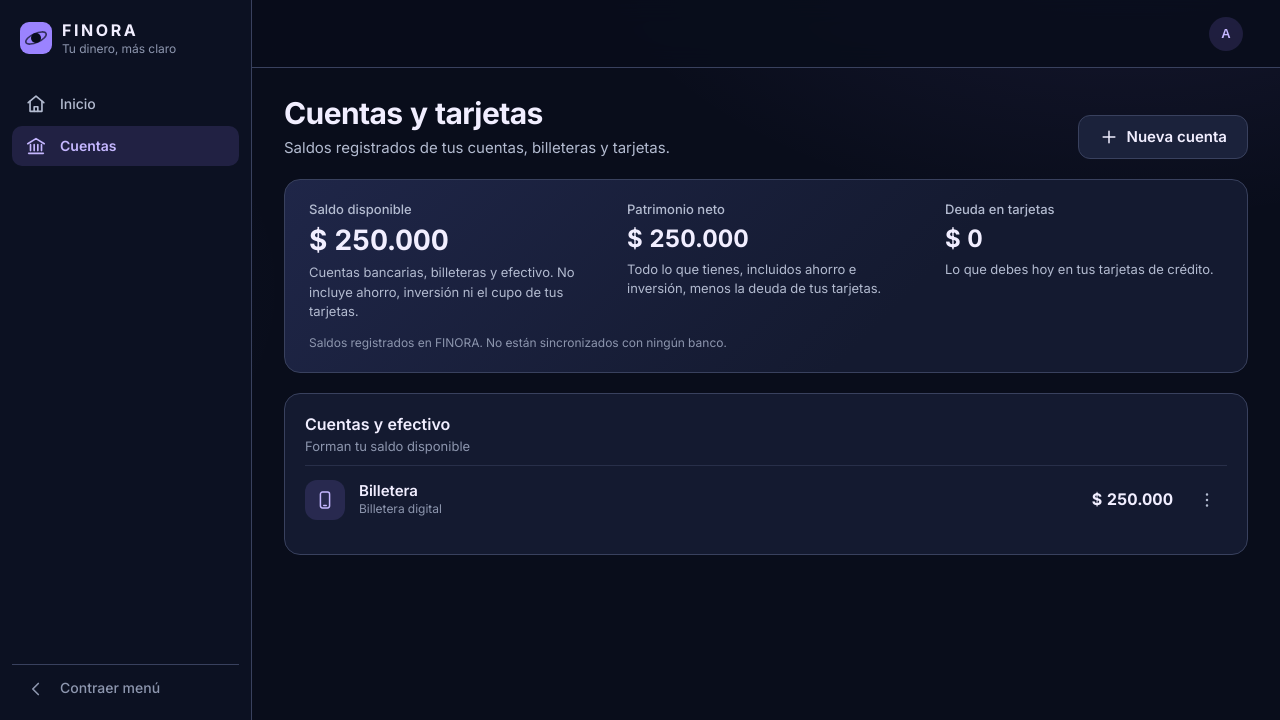
eliminar (CA-ACC-05) › VAL-ACC-08: con movimientos, ofrece archivarla
Click the button named "Acciones de Billetera". click: (1207, 500)
box: 1187,480 -> 1227,520
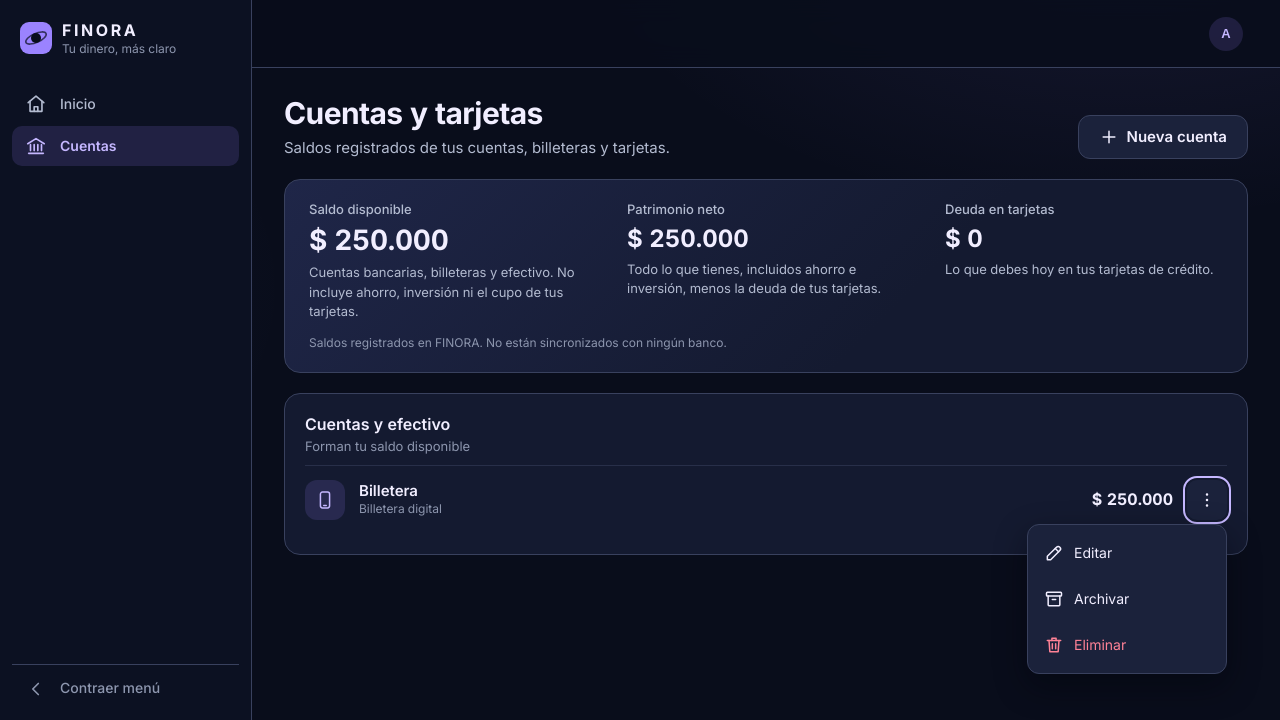
Click the button "Eliminar". click: (1127, 645)
box: 1034,623 -> 1220,667
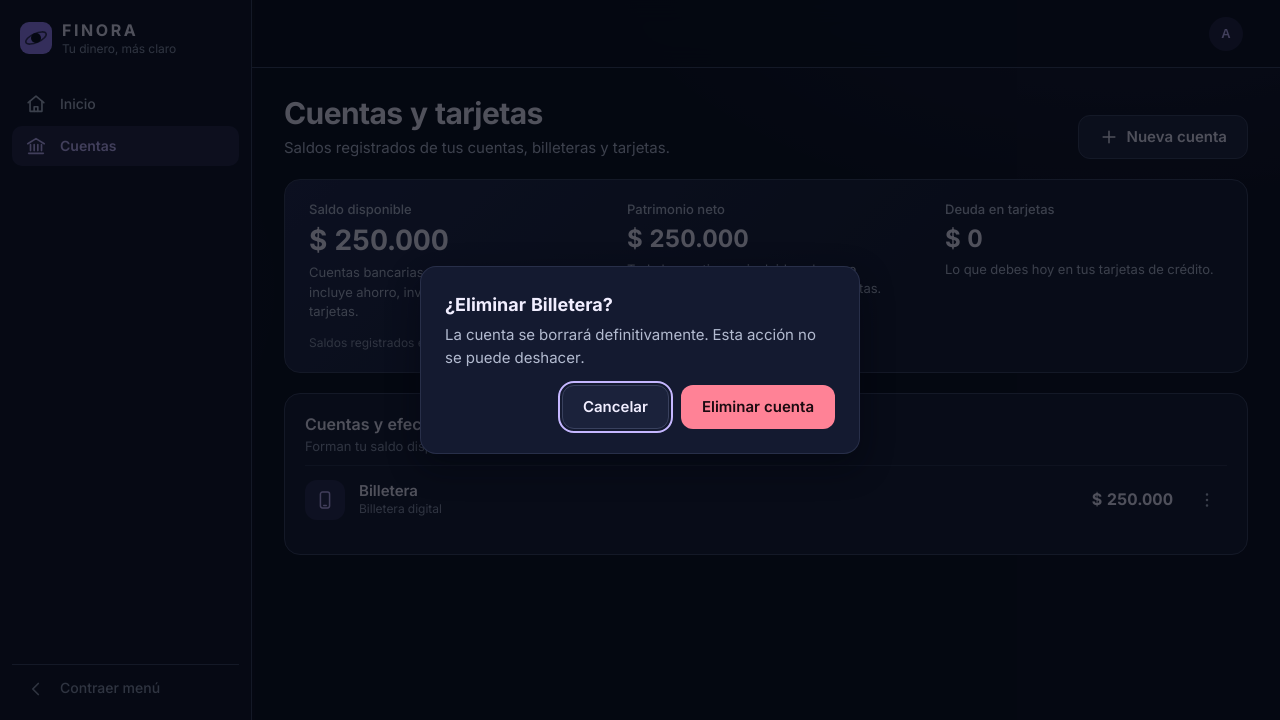
Click the button "Eliminar cuenta". click: (758, 407)
box: 681,385 -> 835,429
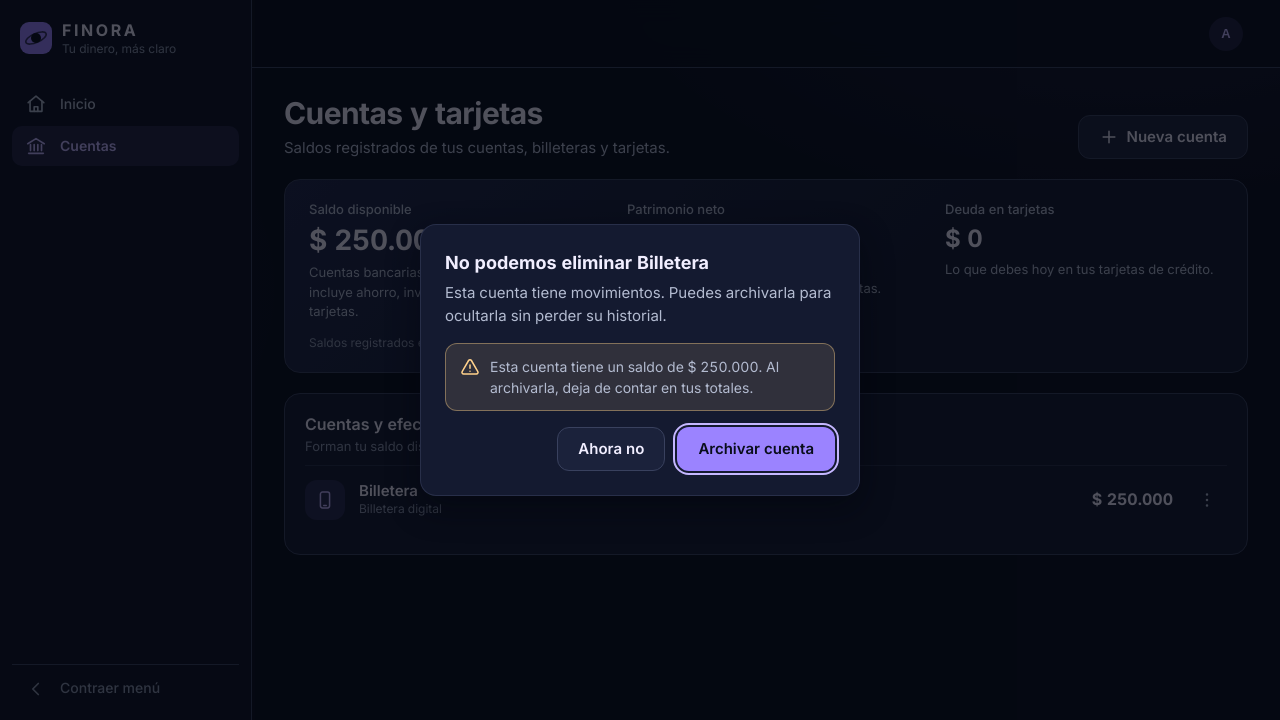
Click the button "Archivar cuenta". click: (756, 449)
box: 677,427 -> 835,471
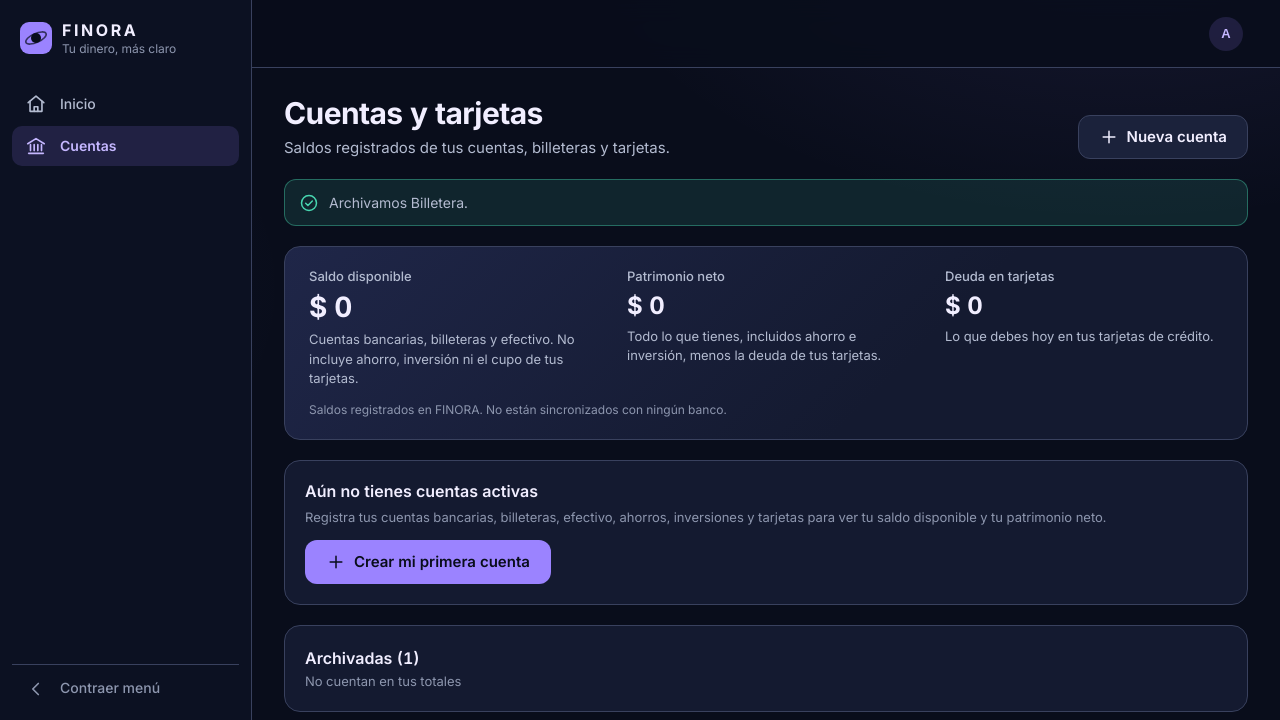
Expected: the text "Archivamos Billetera." is shown, 329,192 -> 468,213
